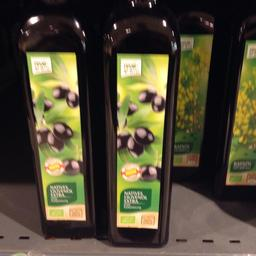oil: (97, 0, 182, 246), (14, 0, 100, 235)
